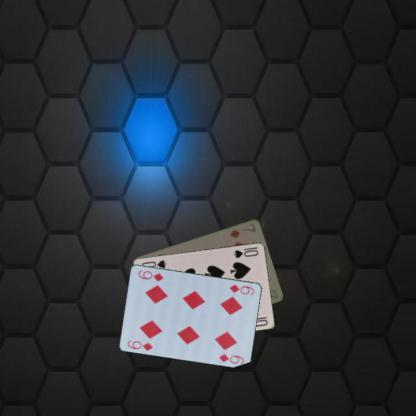10s: (231, 244, 260, 260)
6d: (227, 281, 256, 296), (125, 337, 154, 352)
7d: (228, 220, 257, 239)
